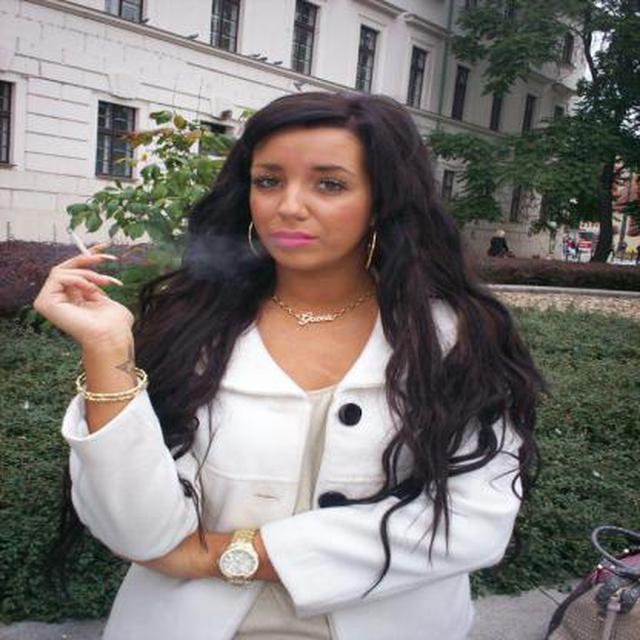smoking: (65, 227, 93, 260)
